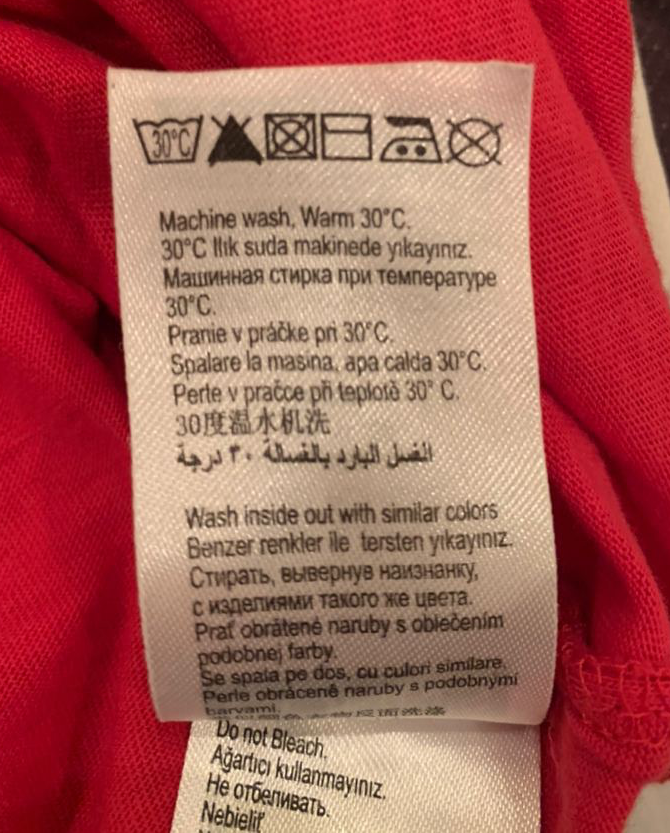do_not_bleach: (205, 112, 265, 167)
do_not_dry_clean: (442, 112, 509, 170)
do_not_tumble_drying: (264, 110, 319, 160)
ironing_at_med_temp: (374, 111, 445, 166)
line_dry: (318, 106, 376, 164)
wash_at_or_below_30: (133, 111, 205, 167)
